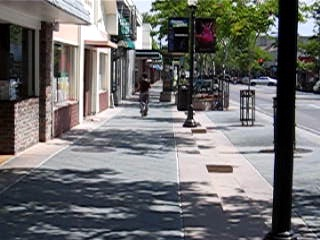person: (138, 71, 153, 118), (137, 71, 152, 118), (139, 71, 154, 118), (138, 70, 153, 117), (138, 72, 153, 119)
target_negative: (50, 136, 260, 233), (80, 9, 309, 88), (196, 48, 249, 222), (97, 25, 222, 62), (252, 202, 282, 218), (280, 117, 281, 210)
